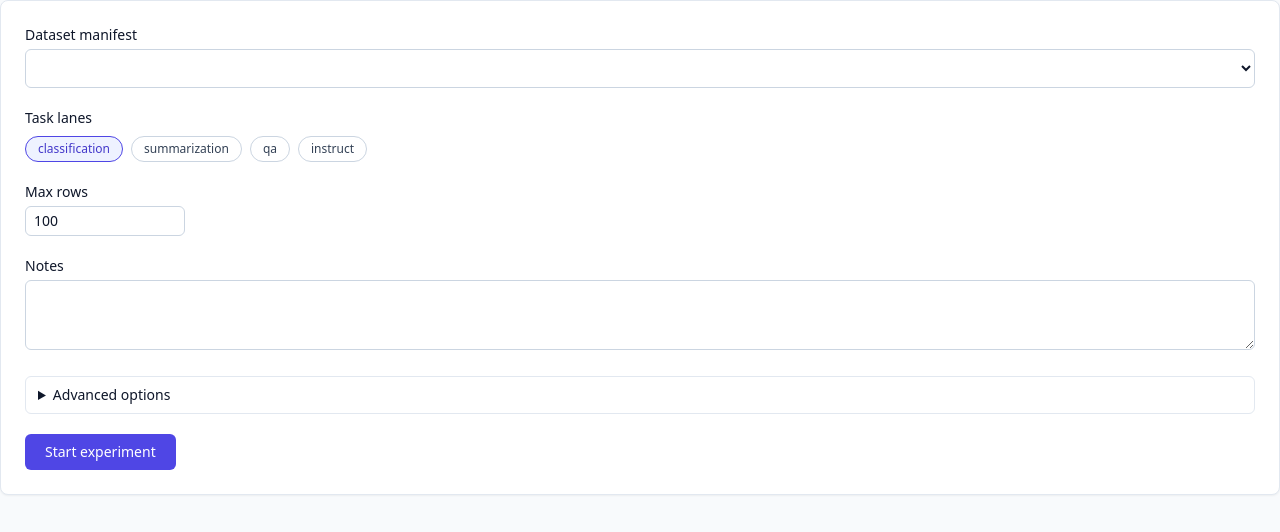
Scenario: ExperimentWizard › shows validation error when all lanes are unchecked on submit
The width and height of the screenshot is (1280, 532).
Uncheck the pre-selected classification lane
Click the checkbox labelled "classification" at (74, 149), box left=25, top=136, right=123, bottom=162
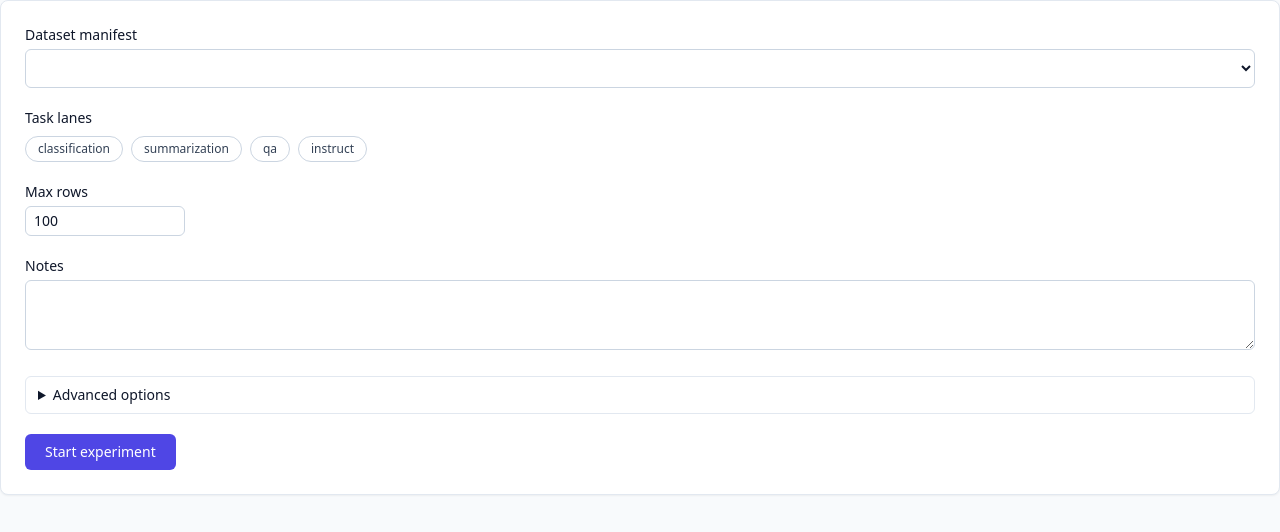
Submit — should surface the lane validation message
Submit the form named "start"
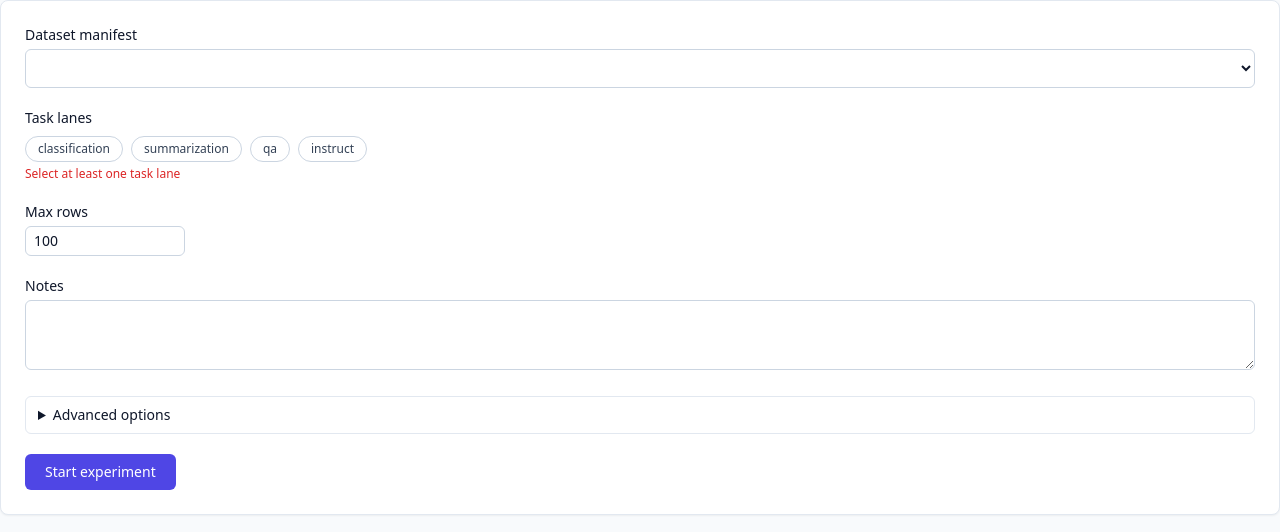
Check: the message shows "at least one task lane", box left=25, top=165, right=180, bottom=182
